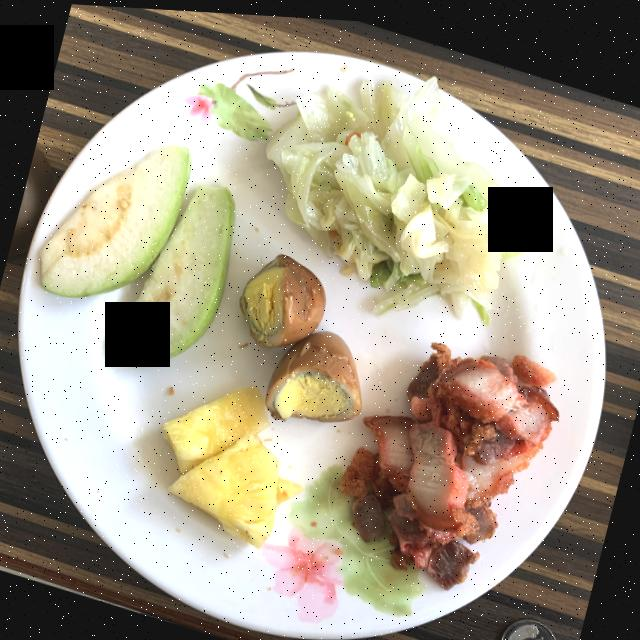cabbage: (265, 72, 522, 311)
coin: (499, 612, 556, 640)
guava -sliced-: (39, 142, 234, 362)
pineapple: (161, 383, 278, 544)
red grilled pork: (338, 337, 557, 584)
soy egg: (238, 250, 360, 418)
